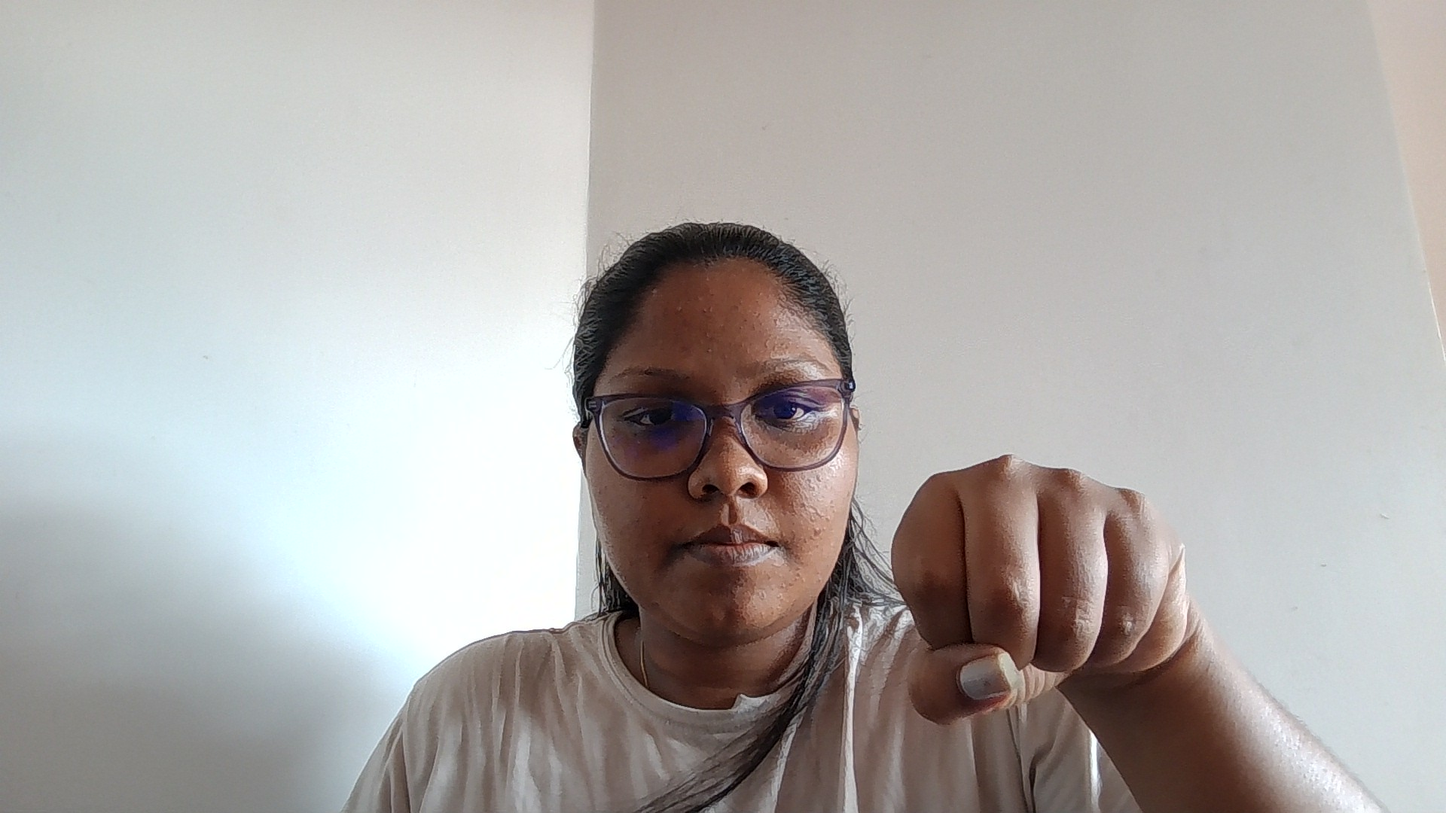Yes: (894, 384, 1236, 765)
